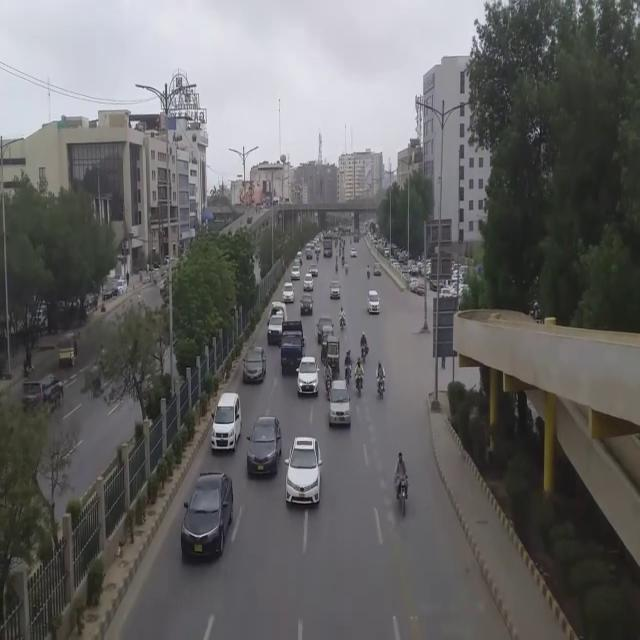car: (181, 474, 238, 566), (284, 436, 322, 505), (21, 368, 66, 426), (246, 414, 282, 476), (211, 392, 244, 455), (328, 379, 352, 428), (242, 347, 268, 386), (296, 358, 320, 397), (267, 304, 285, 340), (316, 319, 334, 343), (366, 287, 381, 314), (300, 295, 313, 315), (330, 282, 342, 300), (282, 286, 294, 304), (306, 268, 318, 278)
motorbike: (391, 444, 418, 518), (373, 354, 392, 402), (355, 356, 374, 398), (357, 325, 371, 364), (345, 347, 356, 391)
truck: (279, 330, 304, 376)
